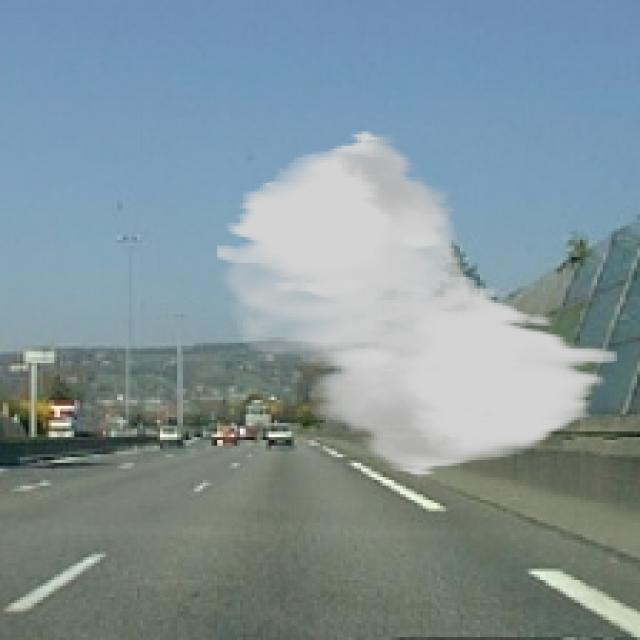Smoke: (214, 128, 617, 478)
